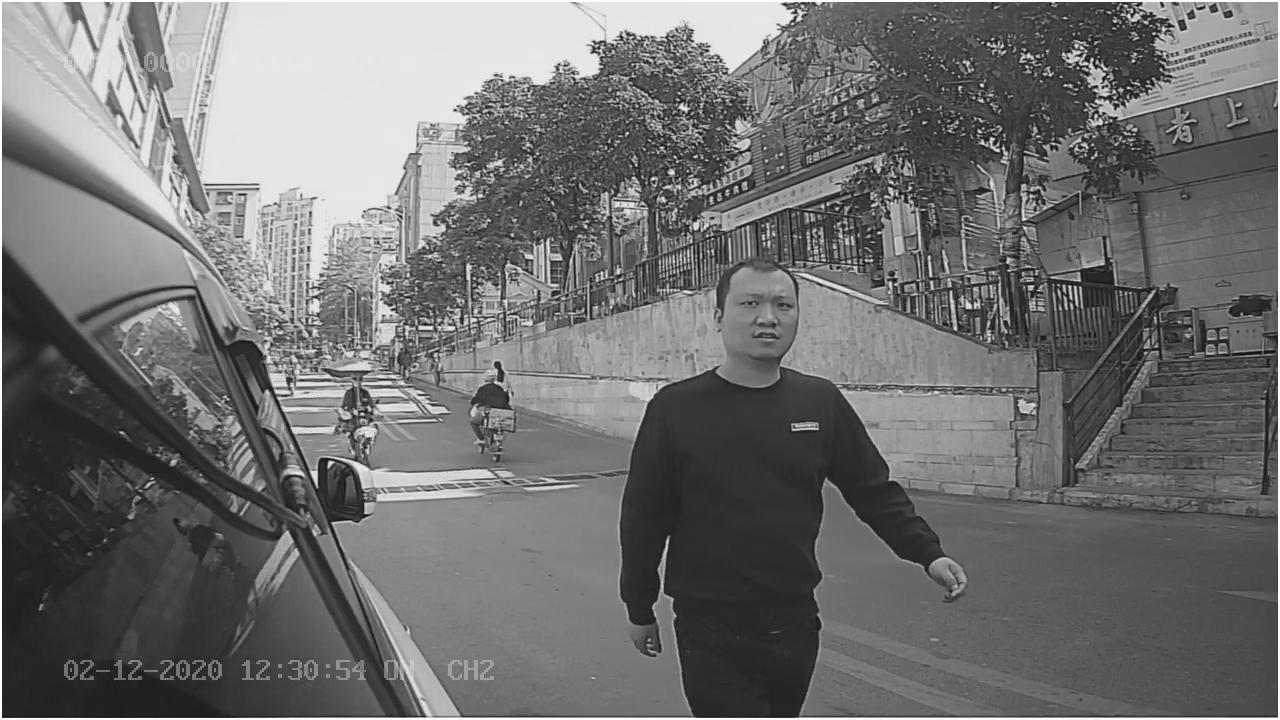person: (605, 249, 969, 661)
